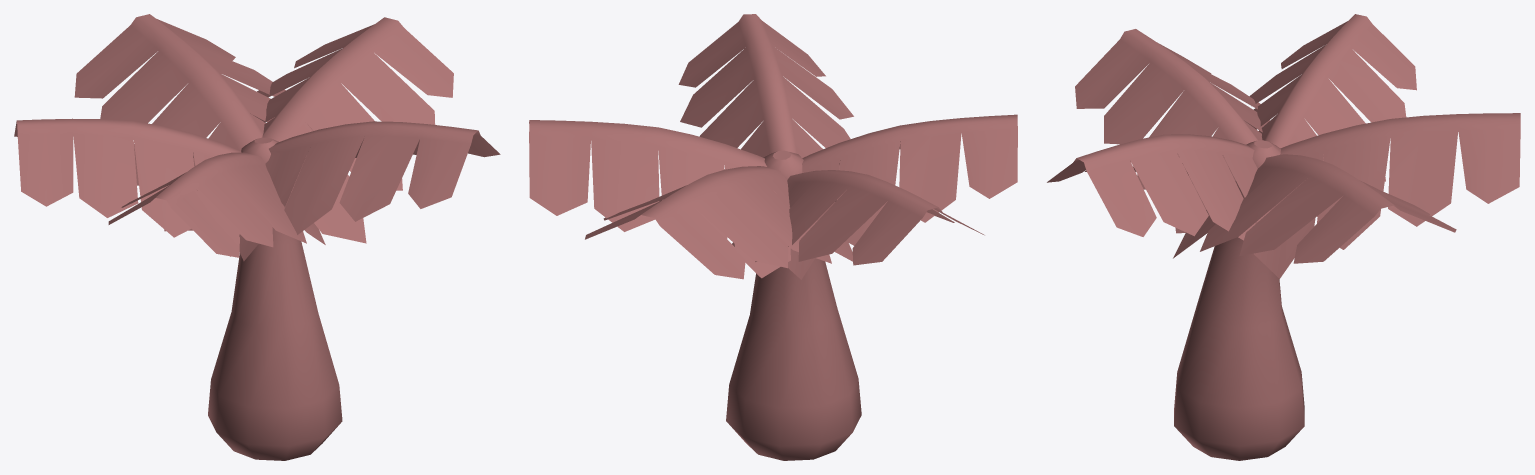
File: SM_BigCoconutTree.fbx
3 renders of one model, left to right at view 1: azimuth 30°, elevation 25°; view 2: azimuth 150°, elevation 25°; view 3: azimuth 270°, elevation 25°, orthographic.
Visible parts, largest first — view 1: SM_CocotierObese; view 2: SM_CocotierObese; view 3: SM_CocotierObese.
Boxes of the visible parts, bbox=[...] form: SM_CocotierObese: bbox=[14, 14, 500, 460]; SM_CocotierObese: bbox=[529, 14, 1017, 460]; SM_CocotierObese: bbox=[1047, 14, 1520, 460].
Bounding box in the file's own units: 220 × 159 × 201.
